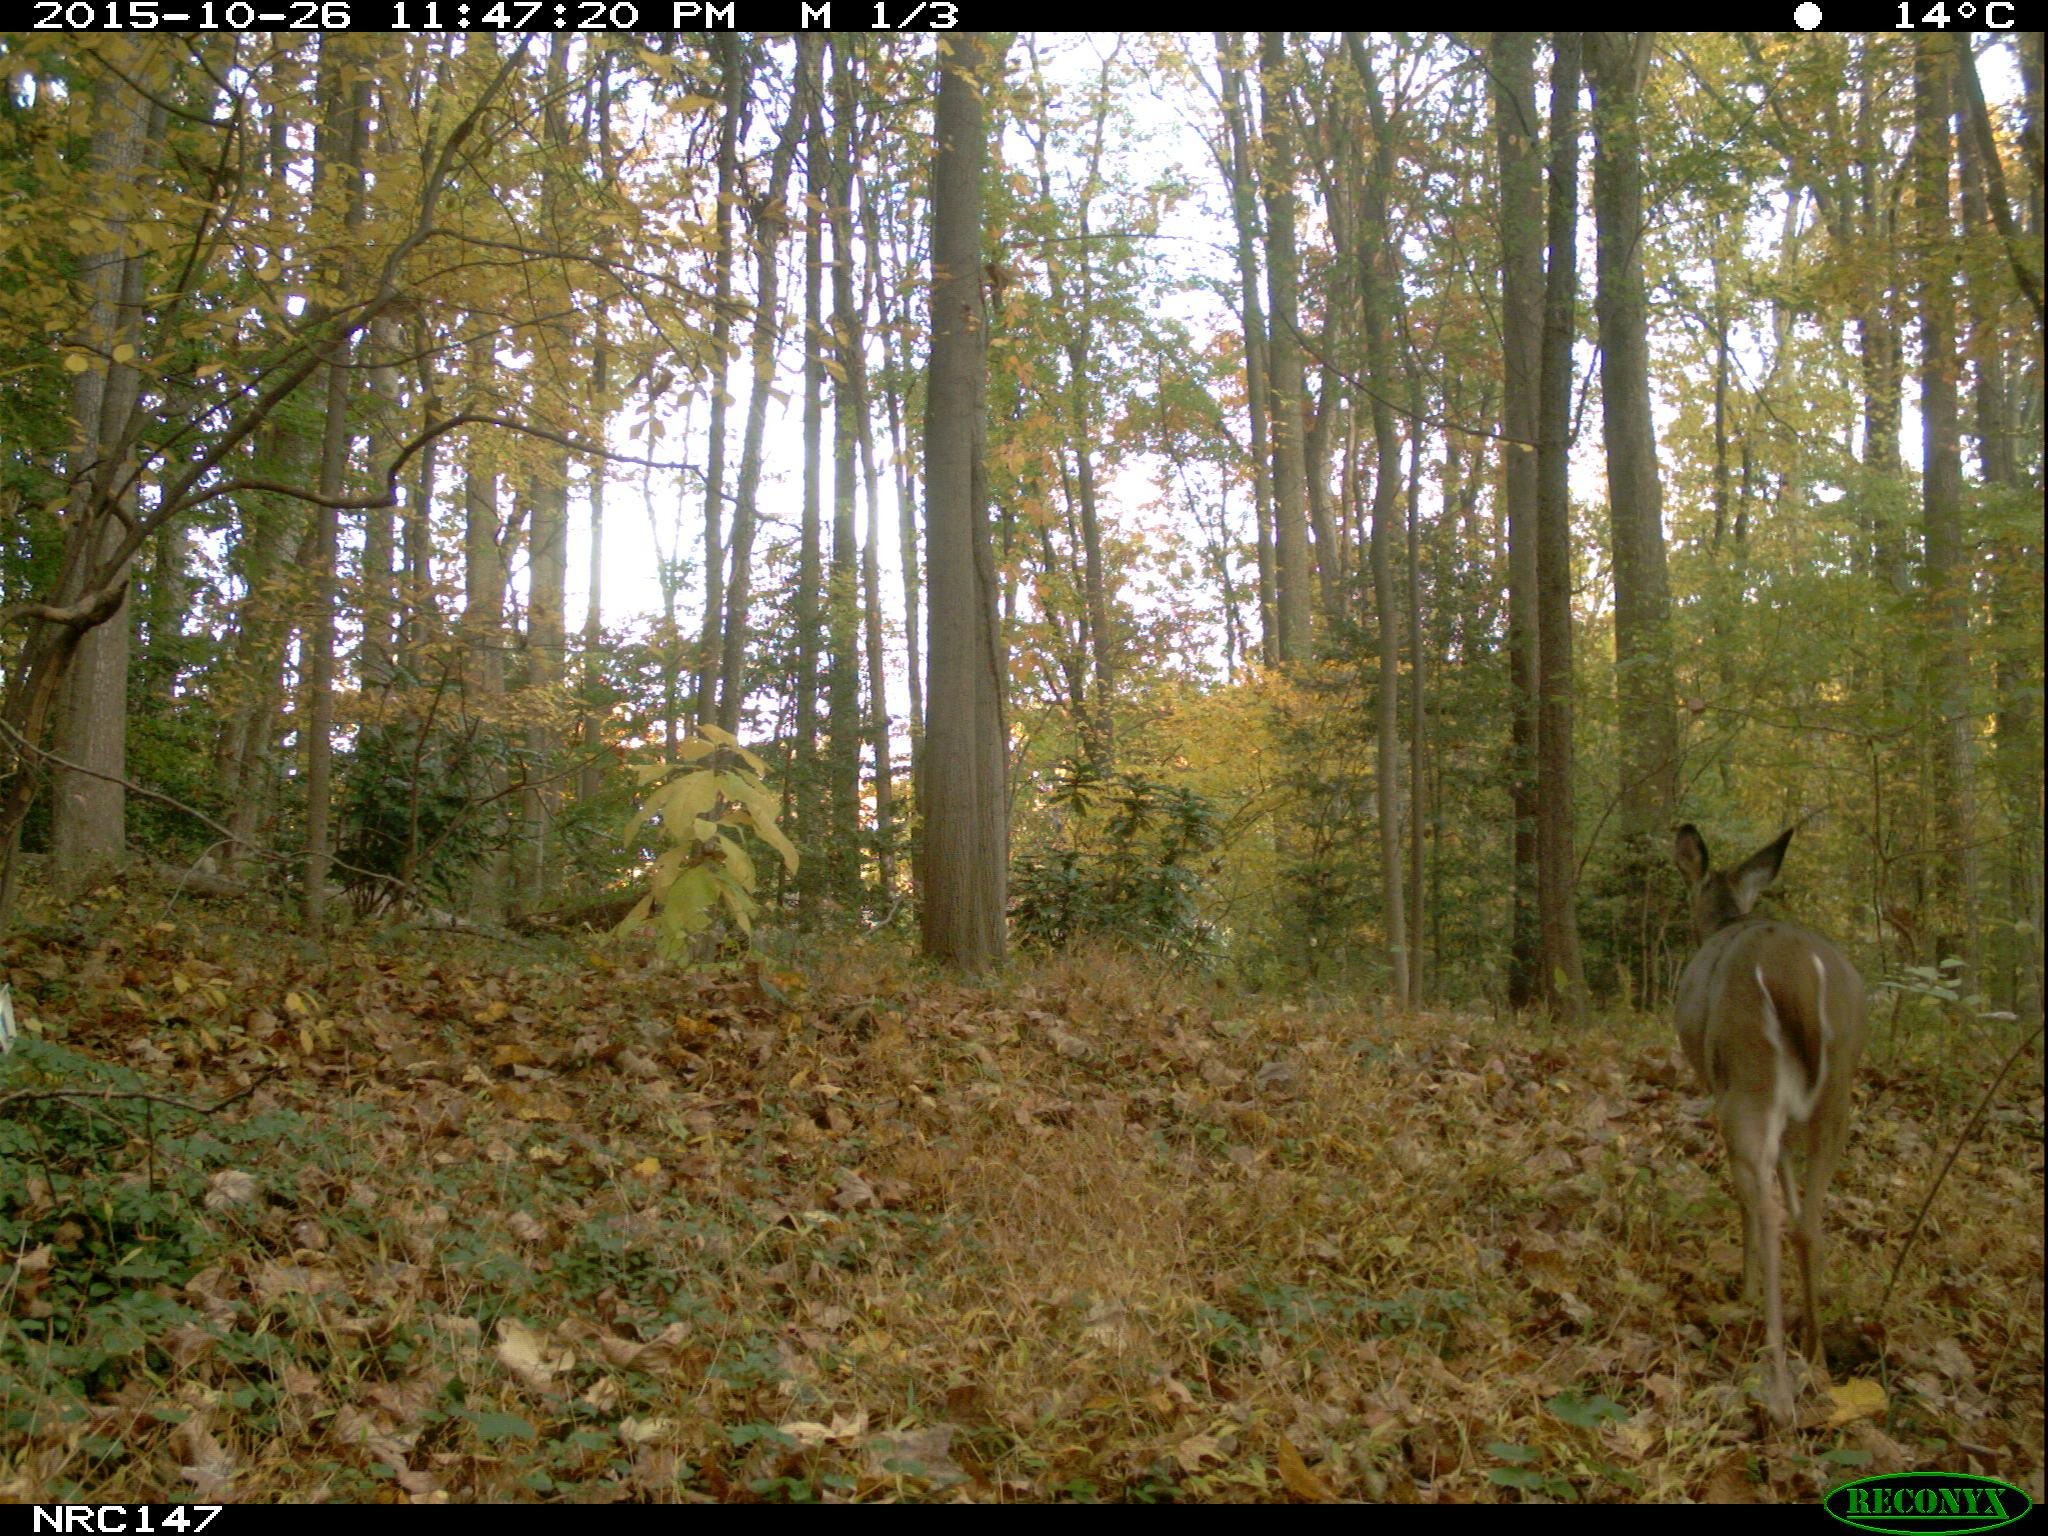Animal: (1667, 823, 1872, 1383)
